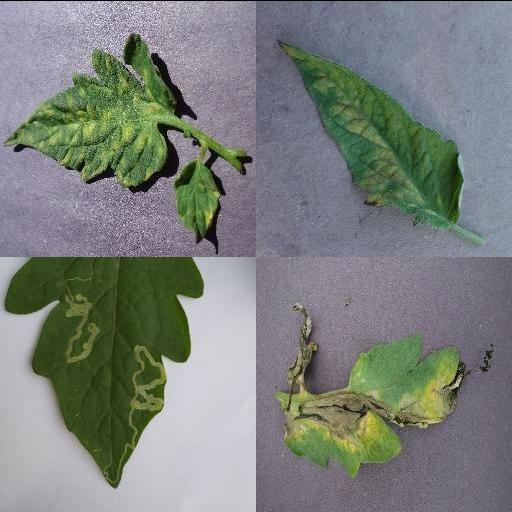Late Blight: (276, 299, 492, 479)
Leaf Miner: (4, 256, 204, 492)
Leaf Mold: (276, 40, 468, 228), (3, 32, 177, 185), (175, 159, 219, 241)
